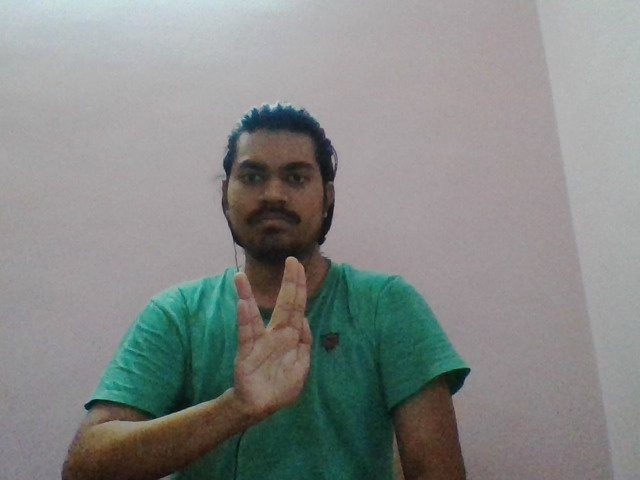LiveLong: (233, 255, 313, 413)
